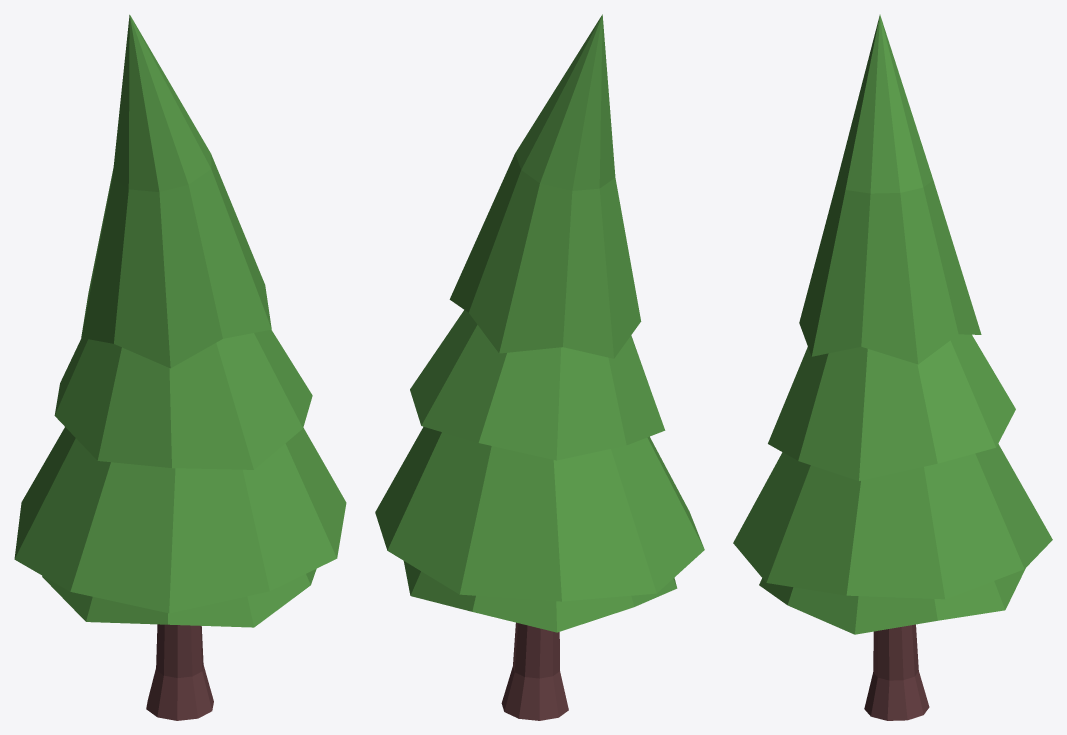
File: tree-3.glb
The picture shows the model from 3 angles, left to right: view 1: azimuth 30°, elevation 25°; view 2: azimuth 150°, elevation 25°; view 3: azimuth 270°, elevation 25°; orthographic projection. The views are drawn at different scales.
Parts seen in each view (by area): view 1: pine-tree-1.001; view 2: pine-tree-1.001; view 3: pine-tree-1.001.
Part boxes in pixels (x1,y1,x2,y2): pine-tree-1.001: (14, 14, 346, 720); pine-tree-1.001: (375, 14, 704, 720); pine-tree-1.001: (733, 14, 1052, 720).
Size of the model in its own units: 0.1404 by 0.3368 by 0.1462.
1 material, 1 textured.
